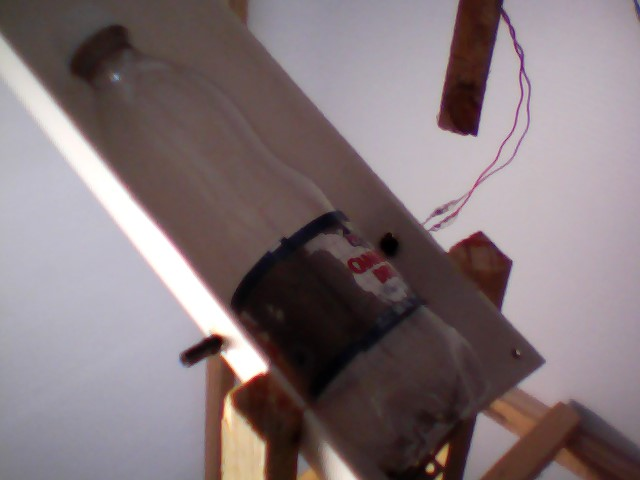plastico: (48, 4, 502, 479)
